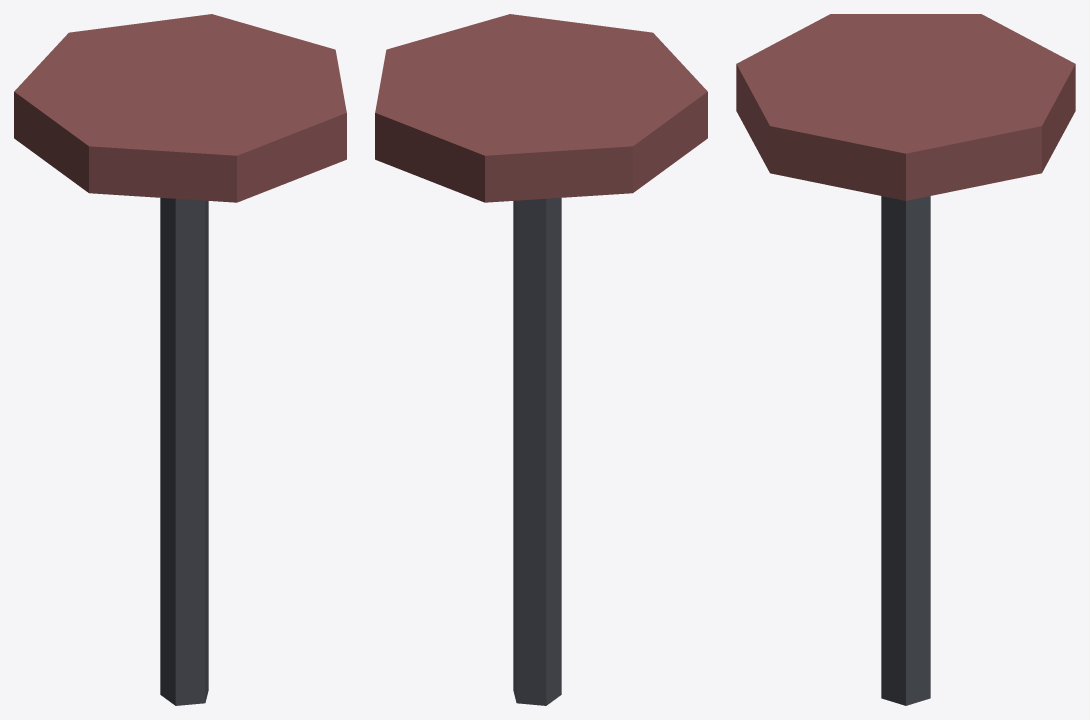
Rendered from taburete.glb.
The picture shows the model from 3 angles, left to right: view 1: azimuth 30°, elevation 25°; view 2: azimuth 150°, elevation 25°; view 3: azimuth 270°, elevation 25°; orthographic projection.
Parts seen in each view (by area): view 1: Taburete; view 2: Taburete; view 3: Taburete.
Boxes of the visible parts, <box> form: Taburete: <box>14,14,346,705</box>; Taburete: <box>375,14,707,705</box>; Taburete: <box>736,14,1075,705</box>.
Size of the model in its own units: 0.3802 by 0.78 by 0.39.
